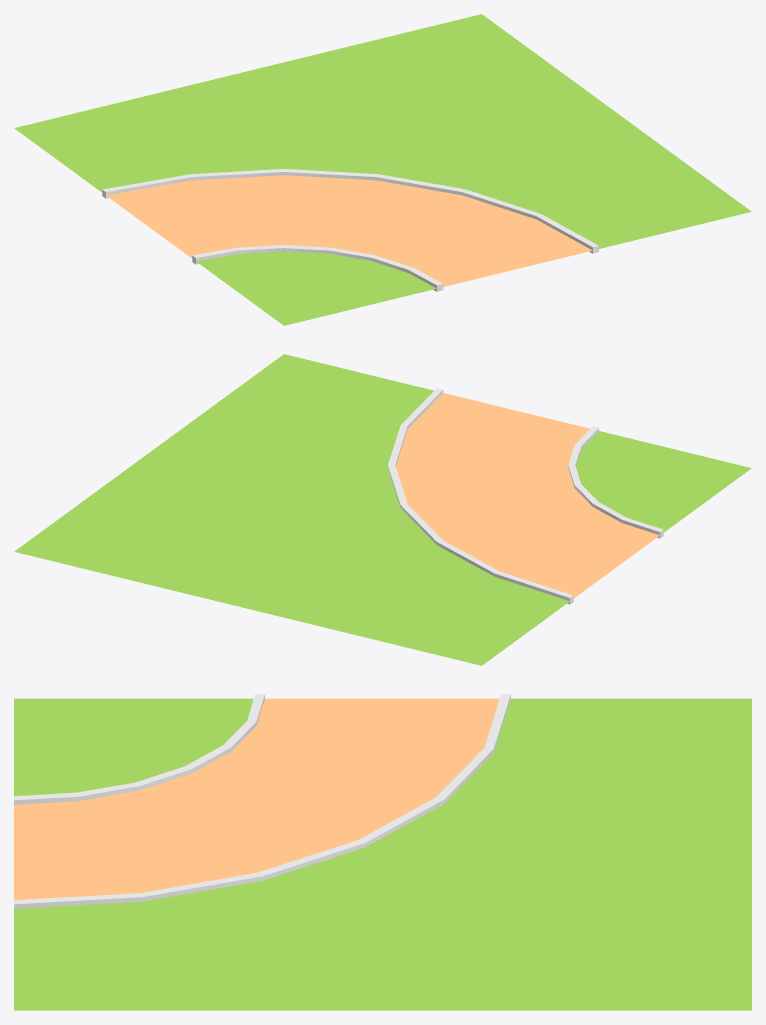
The model's file is park_road_002.glb.
3 views of the same model, one above another, from view 1: azimuth 30°, elevation 25°; view 2: azimuth 150°, elevation 25°; view 3: azimuth 270°, elevation 25° (orthographic). The views are drawn at different scales.
Parts seen in each view (by area): view 1: park_road_002; view 2: park_road_002; view 3: park_road_002.
Boxes of the visible parts, x1,y1,x2,y2 form: park_road_002: (14,14,751,325); park_road_002: (14,354,751,665); park_road_002: (14,694,751,1010).
Bounding box in the file's own units: 15 × 0.2 × 15.
1 material, 1 textured.
